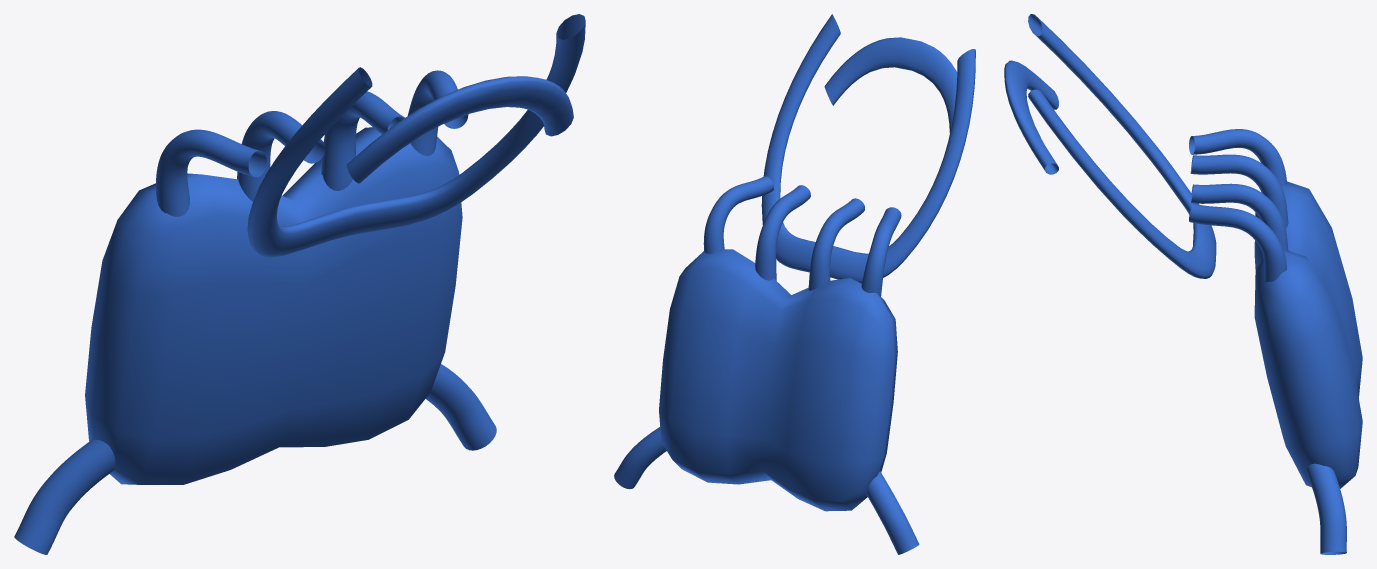
Rendered from circulatorio-basilar-venous-plexus.glb.
The picture shows the model from 3 angles, left to right: view 1: azimuth 30°, elevation 25°; view 2: azimuth 150°, elevation 25°; view 3: azimuth 270°, elevation 25°; orthographic projection. The views are drawn at different scales.
Visible parts, largest first — view 1: Basilar venous plexus, Posterior intercavernous sinus, Anterior intercavernous sinus; view 2: Basilar venous plexus, Posterior intercavernous sinus, Anterior intercavernous sinus; view 3: Basilar venous plexus, Posterior intercavernous sinus, Anterior intercavernous sinus.
Part boxes in pixels (left/top/right/bottom): Basilar venous plexus: left=14, top=70, right=496, bottom=554; Posterior intercavernous sinus: left=247, top=14, right=585, bottom=257; Anterior intercavernous sinus: left=346, top=76, right=573, bottom=183; Basilar venous plexus: left=614, top=176, right=919, bottom=554; Posterior intercavernous sinus: left=761, top=14, right=975, bottom=283; Anterior intercavernous sinus: left=824, top=37, right=957, bottom=132; Basilar venous plexus: left=1189, top=129, right=1362, bottom=554; Posterior intercavernous sinus: left=1028, top=14, right=1216, bottom=278; Anterior intercavernous sinus: left=1004, top=60, right=1058, bottom=174.
Size of the model in its own units: 0.0194 by 0.0239 by 0.0181.
